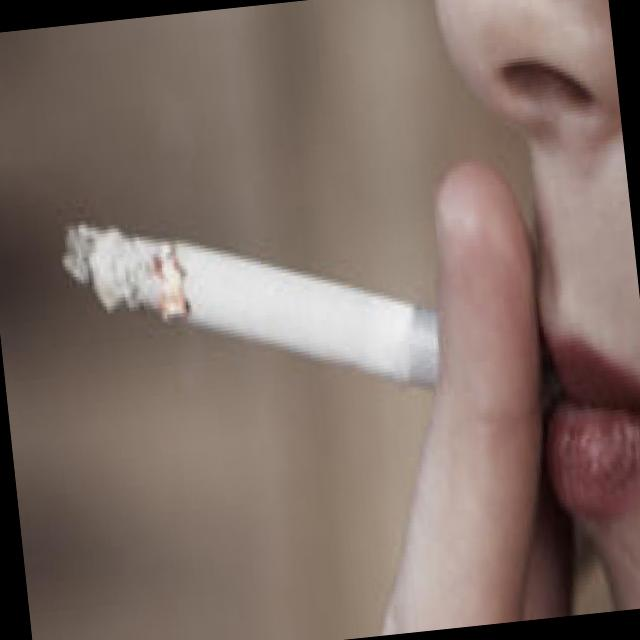cigarette: (56, 167, 565, 482)
